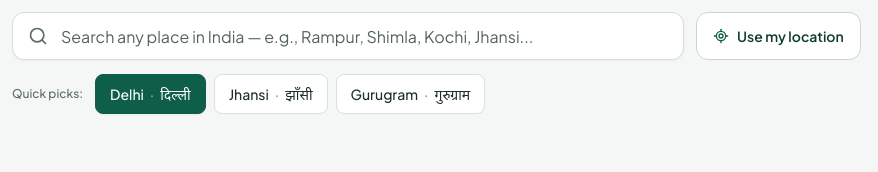
Scenario: CitySearch component › shows a friendly message when no Indian place matches and handles API errors
Type "Zzznoplace" into the dropdown named "Search any city, town, or district in India".
click(348, 36); type("Zzznoplace")  # box [12,12,684,60]
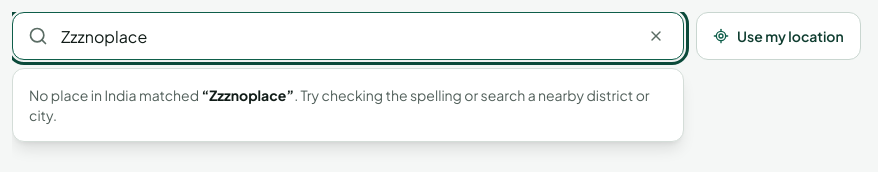
Check: the element with test id "no-place-found" shows "No place in India matched", box [29,86,201,104]
Click the button named "Clear place search".
click(656, 36)  # box [636,16,676,56]
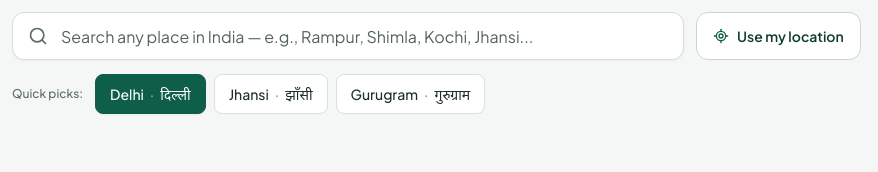
Type "Kochi" into the dropdown named "Search any city, town, or district in India".
click(348, 36); type("Kochi")  # box [12,12,684,60]
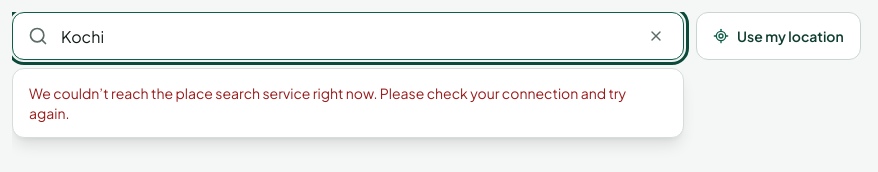
Check: the message shows "couldn’t reach the place search service", box [29,84,626,122]
